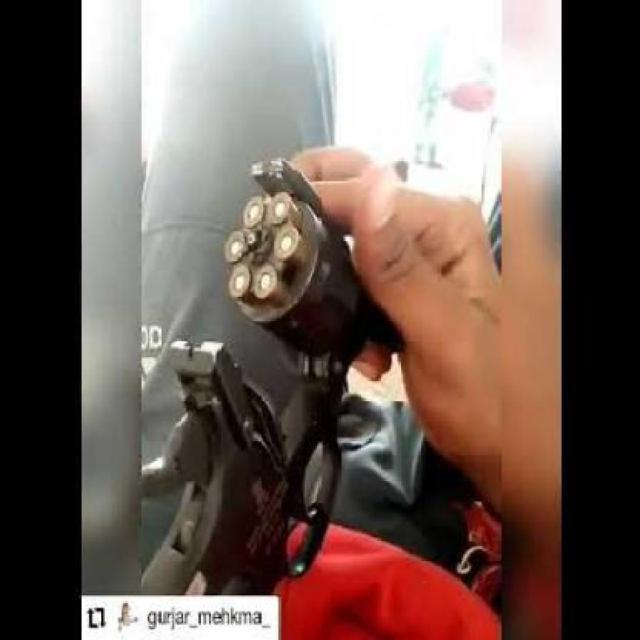Handgun: (134, 146, 448, 639)
